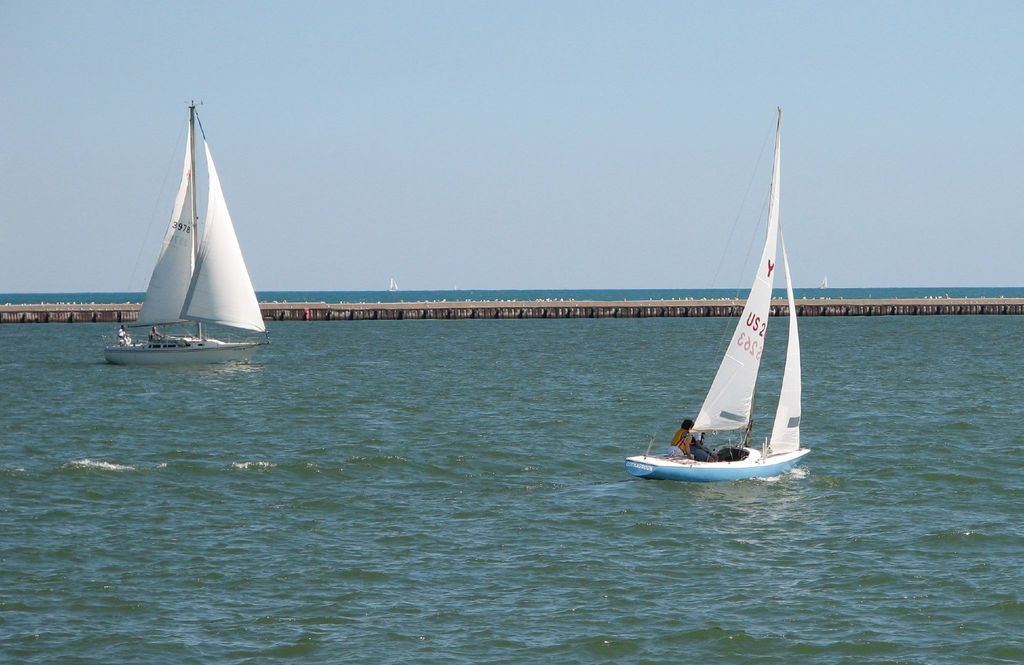boat: (592, 86, 871, 503), (55, 77, 285, 380)
